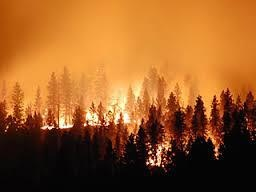fire: (84, 88, 140, 127)
